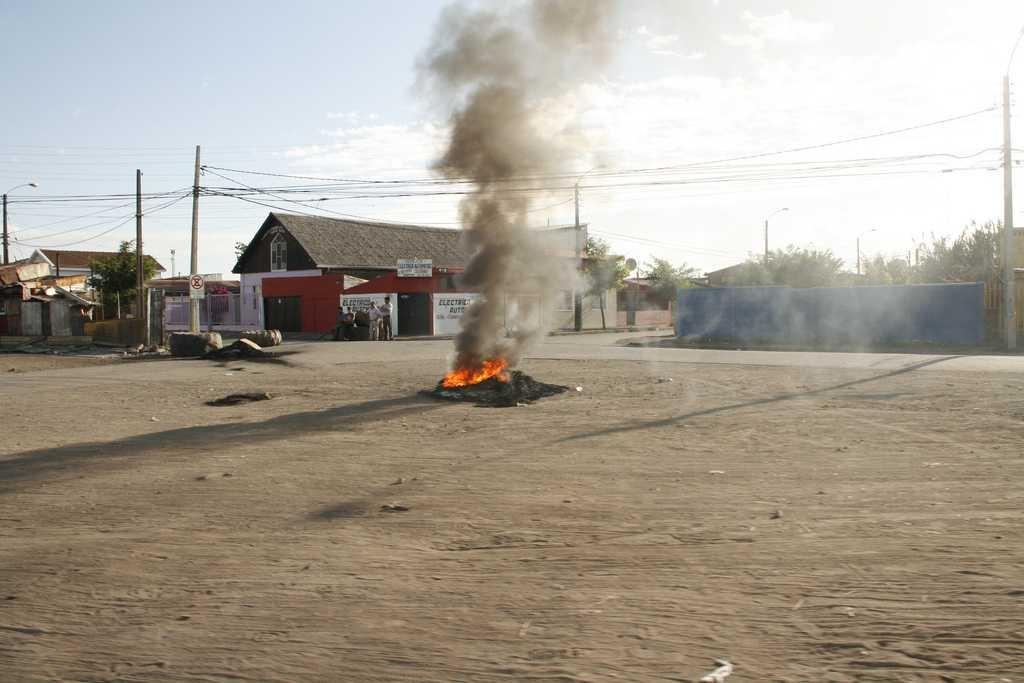fire: (445, 372, 482, 385)
smoke: (458, 113, 537, 170), (478, 230, 525, 297)
